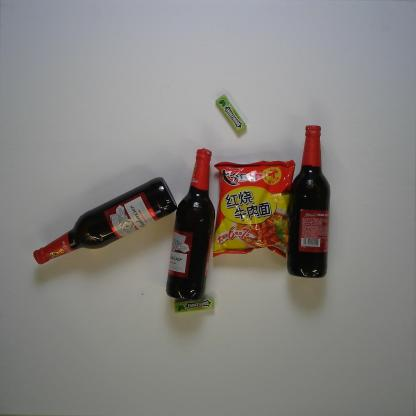Alcohol: (32, 174, 178, 268), (165, 147, 216, 301), (284, 124, 332, 280)
Gum: (215, 93, 249, 135), (174, 297, 218, 313)
Instant Noodles: (213, 158, 298, 258)
